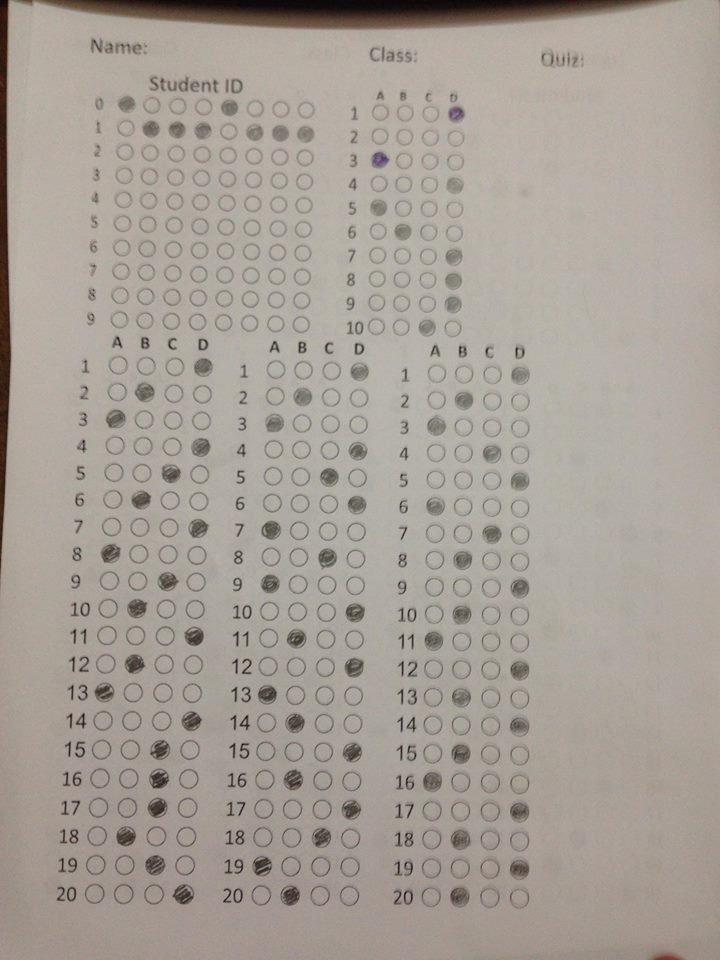not-c: (253, 769, 278, 793), (142, 883, 168, 906), (507, 887, 534, 909), (93, 652, 117, 676), (339, 856, 362, 881), (174, 827, 198, 850), (339, 769, 362, 793), (509, 743, 532, 767), (508, 831, 532, 854), (307, 886, 332, 908), (449, 714, 474, 736), (124, 624, 147, 647), (321, 360, 344, 383), (343, 685, 366, 708), (83, 854, 108, 875), (313, 655, 338, 676), (479, 800, 500, 825), (480, 884, 501, 909), (118, 766, 140, 789), (314, 628, 337, 650), (254, 740, 277, 762), (279, 827, 302, 849), (481, 390, 504, 412), (509, 631, 532, 653), (420, 886, 443, 908), (135, 355, 159, 376), (185, 572, 209, 593), (122, 681, 143, 705), (173, 854, 197, 875), (317, 494, 338, 518), (255, 628, 279, 649), (312, 797, 333, 821), (127, 570, 149, 592), (347, 467, 369, 489), (313, 712, 335, 734), (284, 741, 306, 763), (311, 769, 333, 791), (424, 469, 446, 491), (451, 630, 473, 652), (451, 658, 473, 680), (481, 687, 503, 709), (184, 600, 207, 621), (153, 653, 174, 676), (178, 740, 201, 761), (89, 767, 110, 790), (320, 413, 341, 436), (314, 685, 337, 706), (249, 886, 272, 907), (482, 417, 505, 438), (454, 469, 475, 492), (480, 743, 501, 766), (480, 773, 503, 794), (452, 800, 473, 823), (345, 576, 369, 596), (256, 658, 280, 678), (310, 856, 330, 880), (165, 355, 186, 377), (160, 490, 182, 511), (96, 624, 117, 646), (156, 625, 177, 647), (153, 682, 174, 704), (92, 711, 114, 732), (116, 798, 138, 819), (321, 389, 343, 410), (349, 414, 371, 435), (290, 492, 311, 514), (258, 601, 280, 622), (342, 714, 364, 735), (340, 829, 362, 850), (483, 364, 505, 385), (510, 773, 531, 795), (420, 801, 442, 822), (420, 829, 442, 850), (160, 516, 180, 539), (183, 653, 203, 676), (152, 710, 172, 733), (88, 798, 111, 818), (177, 798, 200, 818), (289, 522, 312, 542), (254, 797, 274, 820), (339, 886, 362, 906), (510, 497, 530, 520), (511, 524, 531, 547), (423, 551, 446, 571), (423, 713, 443, 736), (420, 743, 443, 763), (101, 490, 125, 509), (285, 683, 304, 707), (132, 436, 153, 457), (181, 683, 202, 704), (263, 439, 284, 460), (291, 440, 312, 461), (321, 440, 342, 461), (312, 742, 333, 763), (511, 390, 532, 411), (509, 690, 530, 711), (451, 771, 472, 792), (192, 410, 214, 430), (100, 516, 122, 536), (186, 545, 208, 565), (98, 598, 118, 620), (92, 738, 112, 760), (147, 826, 167, 848), (266, 359, 286, 381), (344, 631, 366, 651), (251, 827, 273, 847), (481, 470, 501, 492), (451, 496, 473, 516), (509, 606, 531, 626), (481, 829, 501, 851), (422, 857, 442, 879), (451, 858, 471, 880), (479, 860, 501, 880), (123, 709, 142, 732), (83, 884, 106, 903), (108, 355, 128, 376), (163, 410, 184, 430), (130, 518, 150, 539), (100, 572, 120, 593), (88, 826, 108, 847), (115, 884, 135, 905), (350, 389, 370, 410), (263, 494, 283, 515), (282, 800, 303, 820), (427, 389, 448, 409), (453, 444, 474, 464), (510, 445, 531, 465), (425, 578, 446, 598), (481, 660, 502, 680), (217, 169, 239, 188), (107, 381, 129, 400), (105, 463, 124, 485), (159, 544, 178, 566), (345, 522, 367, 541), (454, 416, 473, 438), (160, 438, 183, 456), (426, 522, 444, 545), (112, 237, 132, 257), (188, 312, 208, 332), (104, 436, 124, 456), (130, 543, 150, 563), (347, 549, 367, 569), (452, 577, 472, 597), (423, 687, 443, 707), (169, 96, 188, 117), (163, 383, 184, 402), (135, 410, 154, 431), (189, 466, 210, 485), (189, 492, 208, 513), (423, 103, 442, 124), (391, 293, 412, 312), (317, 576, 338, 595), (257, 713, 278, 732), (482, 552, 503, 571), (512, 551, 531, 572), (422, 604, 443, 623), (480, 606, 501, 625), (480, 716, 499, 737), (121, 739, 139, 761), (116, 854, 134, 876), (318, 603, 336, 625), (220, 121, 239, 141), (192, 146, 212, 165), (296, 172, 315, 192), (293, 244, 313, 263), (294, 267, 313, 287), (162, 288, 182, 307), (163, 313, 182, 333), (156, 600, 176, 619), (447, 154, 466, 174), (369, 222, 388, 242), (393, 269, 412, 289), (319, 523, 339, 542), (288, 602, 308, 621), (426, 443, 446, 462), (295, 149, 316, 167), (268, 243, 289, 261), (135, 288, 156, 306), (131, 464, 152, 482), (419, 200, 440, 218), (293, 361, 314, 379), (289, 576, 310, 594), (263, 468, 286, 484), (140, 142, 159, 161), (193, 193, 212, 212), (191, 217, 210, 236), (269, 267, 288, 286), (214, 289, 233, 308), (193, 384, 212, 403), (180, 769, 199, 788), (445, 201, 464, 220), (445, 224, 464, 243), (287, 659, 306, 678), (281, 856, 300, 875), (453, 526, 472, 545), (480, 633, 499, 652), (424, 660, 443, 679), (194, 98, 214, 116), (114, 143, 134, 161), (244, 148, 264, 166), (218, 194, 238, 212), (136, 241, 156, 259), (241, 243, 261, 261), (136, 263, 156, 281), (137, 311, 155, 331), (268, 314, 286, 334), (393, 246, 411, 266), (288, 549, 308, 567), (429, 364, 447, 384), (484, 498, 502, 518), (481, 579, 501, 597), (168, 167, 185, 188), (268, 197, 289, 214), (188, 289, 209, 306), (394, 177, 415, 194), (453, 366, 474, 383), (298, 100, 316, 119), (220, 145, 238, 164), (138, 215, 157, 233), (242, 220, 261, 238), (189, 265, 208, 283), (242, 266, 261, 284), (109, 287, 128, 305), (241, 290, 259, 309), (109, 311, 128, 329), (420, 248, 439, 266), (420, 271, 438, 290), (368, 293, 386, 312), (418, 296, 437, 314), (392, 318, 410, 337), (292, 415, 311, 433), (262, 548, 281, 566), (511, 420, 530, 438), (243, 195, 263, 212), (163, 240, 183, 257), (189, 242, 209, 259), (216, 314, 233, 334), (240, 315, 260, 332), (421, 177, 441, 194), (369, 318, 386, 338), (291, 467, 311, 484), (168, 144, 186, 162), (217, 219, 235, 237), (293, 316, 311, 334), (420, 153, 438, 171), (143, 95, 160, 114), (167, 193, 186, 210), (164, 265, 183, 282), (268, 292, 287, 309), (397, 104, 414, 123), (397, 129, 414, 148), (422, 129, 439, 148), (449, 129, 466, 148), (368, 270, 387, 287), (445, 317, 462, 336), (266, 387, 286, 403), (268, 221, 289, 236), (272, 101, 289, 119), (271, 149, 289, 166), (141, 168, 159, 185), (294, 196, 312, 213), (370, 176, 387, 194), (420, 224, 437, 242), (248, 99, 264, 118), (116, 120, 135, 136), (115, 168, 134, 184), (164, 217, 183, 233), (294, 222, 313, 238), (368, 248, 387, 264), (113, 193, 133, 208), (141, 192, 158, 209), (217, 266, 234, 283), (294, 291, 311, 308), (245, 172, 263, 188), (218, 243, 234, 261), (112, 264, 130, 280), (372, 104, 390, 120), (370, 128, 388, 144), (394, 201, 412, 217), (114, 215, 131, 231), (193, 171, 211, 186), (272, 171, 287, 188), (397, 153, 412, 169)
taken-c: (340, 740, 367, 765), (419, 768, 444, 794), (341, 600, 368, 624), (507, 799, 531, 826), (280, 768, 305, 793), (157, 461, 183, 485), (506, 577, 532, 601), (172, 881, 197, 905), (342, 656, 368, 679), (145, 767, 171, 790), (255, 683, 279, 707), (187, 435, 212, 458), (157, 568, 180, 593), (345, 440, 371, 462), (96, 543, 122, 565), (447, 883, 469, 909), (104, 407, 128, 430), (345, 493, 369, 516), (122, 652, 146, 675), (282, 711, 306, 734), (450, 603, 474, 626), (423, 415, 446, 439), (510, 363, 533, 387), (446, 687, 471, 709), (258, 520, 284, 541), (315, 546, 338, 569), (146, 795, 169, 818), (179, 709, 203, 731), (449, 829, 473, 851), (508, 716, 532, 738), (509, 659, 533, 681), (423, 494, 445, 518), (258, 574, 283, 595), (115, 92, 138, 114), (123, 597, 146, 619), (252, 854, 274, 877), (507, 858, 530, 880), (422, 630, 444, 653), (480, 442, 503, 464), (317, 466, 341, 487), (187, 519, 211, 540), (144, 854, 166, 876), (291, 385, 312, 408), (93, 681, 116, 702), (262, 413, 286, 433), (281, 883, 301, 907), (131, 489, 153, 510), (115, 824, 136, 846), (311, 826, 332, 848), (449, 742, 471, 763), (481, 524, 503, 545), (443, 248, 465, 269), (133, 382, 156, 402), (367, 197, 388, 218), (285, 627, 307, 647), (149, 738, 169, 760), (340, 799, 362, 819), (269, 123, 290, 143), (417, 317, 437, 338), (184, 627, 204, 647), (447, 104, 467, 124), (369, 148, 389, 168), (244, 120, 263, 141), (193, 358, 214, 377), (349, 361, 368, 382), (453, 548, 472, 569), (511, 470, 530, 491), (444, 176, 465, 195), (392, 223, 413, 242), (294, 123, 315, 141), (140, 119, 159, 138), (452, 391, 471, 410), (219, 98, 239, 116), (167, 121, 187, 139), (444, 274, 463, 291), (444, 296, 463, 313), (193, 120, 211, 137)
